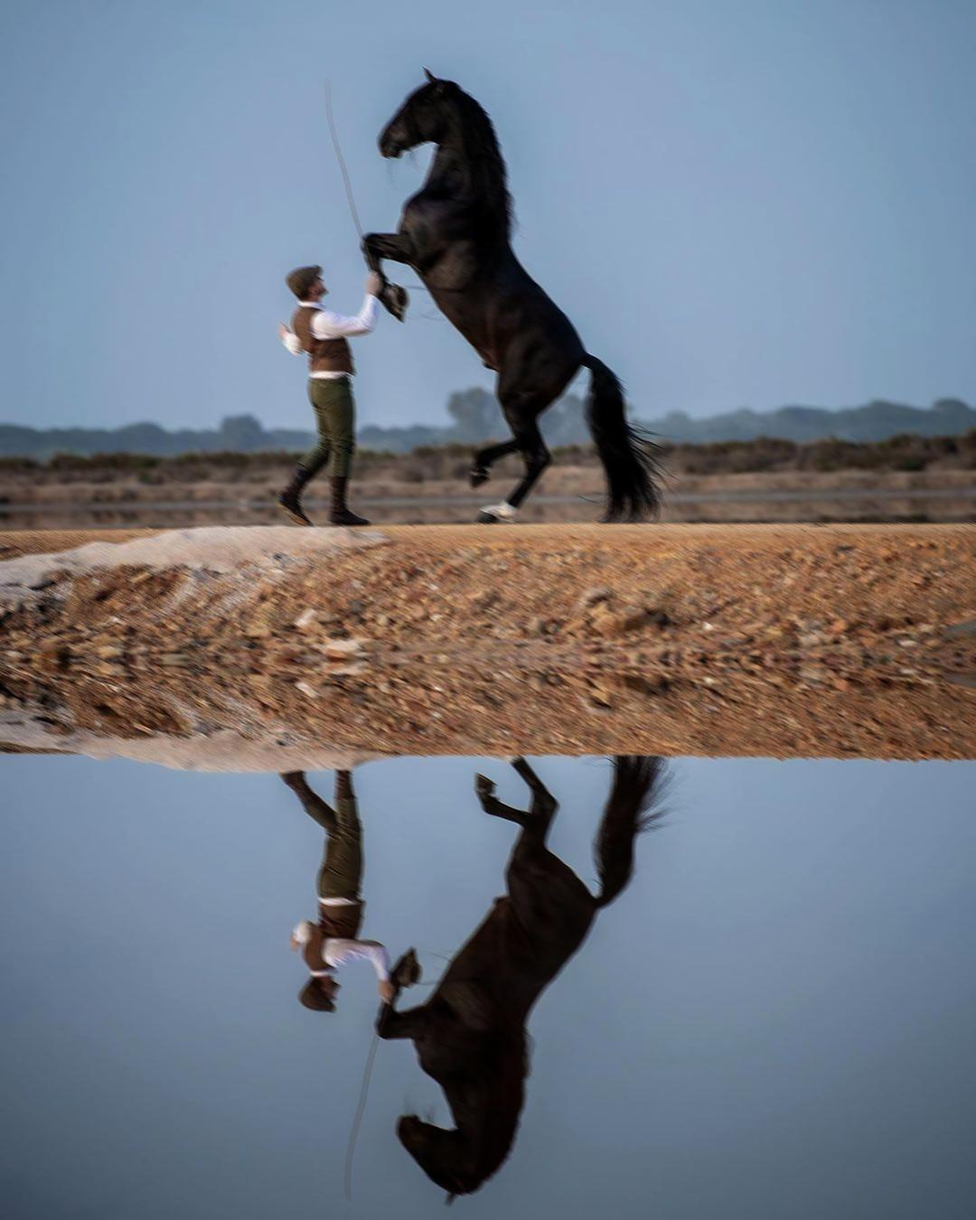horse: (359, 66, 679, 524), (374, 752, 685, 1206)
